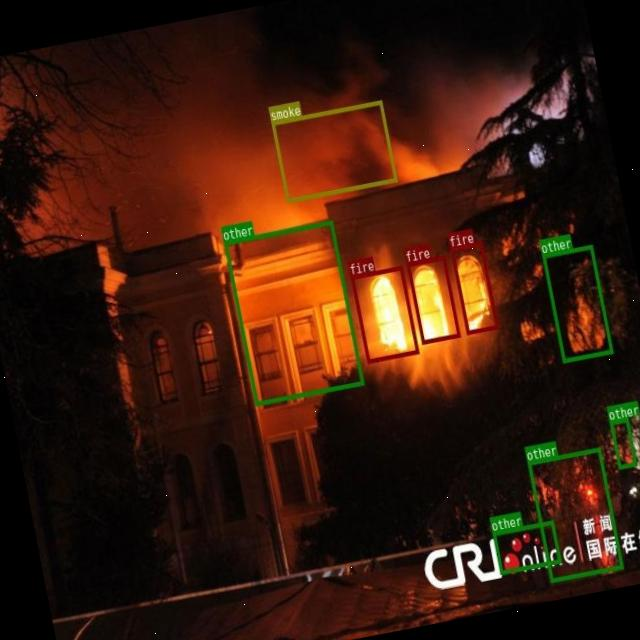fire: (350, 266, 418, 364), (406, 255, 460, 344), (449, 242, 498, 334)
smoke: (271, 99, 397, 202)
